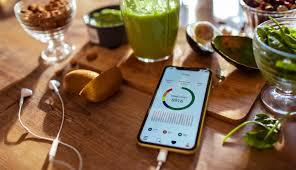Smartphone: (137, 62, 214, 152)
